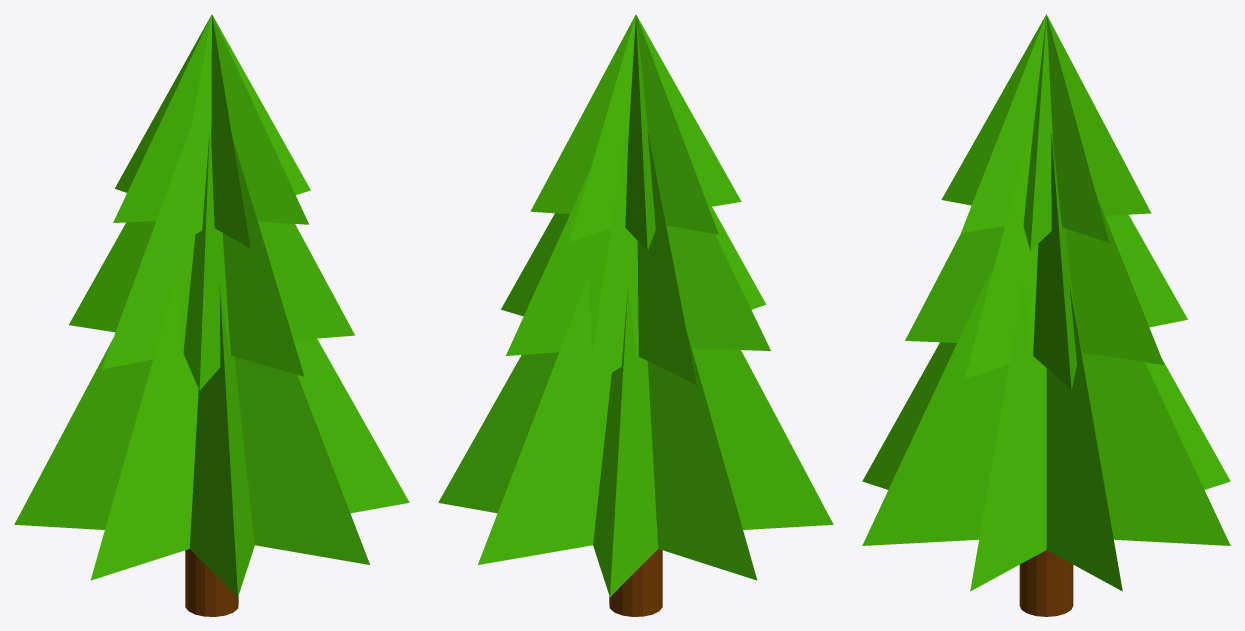
Rendered from arbolcolor12.fbx.
The picture shows the model from 3 angles, left to right: view 1: azimuth 30°, elevation 25°; view 2: azimuth 150°, elevation 25°; view 3: azimuth 270°, elevation 25°; orthographic projection.
Parts seen in each view (by area): view 1: Cone, Cone.001; view 2: Cone, Cone.001; view 3: Cone, Cone.001.
Part boxes in pixels (x1,y1,x2,y2): Cone: (14,14,409,596); Cone.001: (185,549,238,616); Cone: (438,14,833,596); Cone.001: (609,549,662,616); Cone: (862,14,1230,591); Cone.001: (1019,550,1073,616).
Size of the model in its own units: 185 by 327 by 185.
